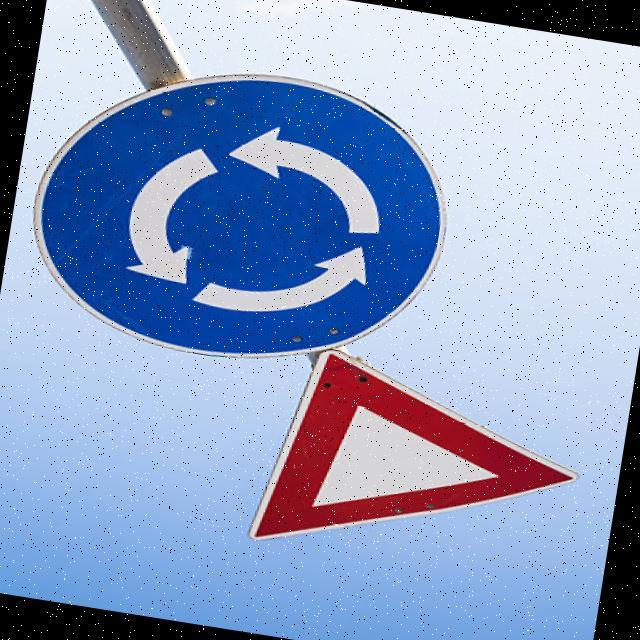round_about: (2, 38, 476, 383)
